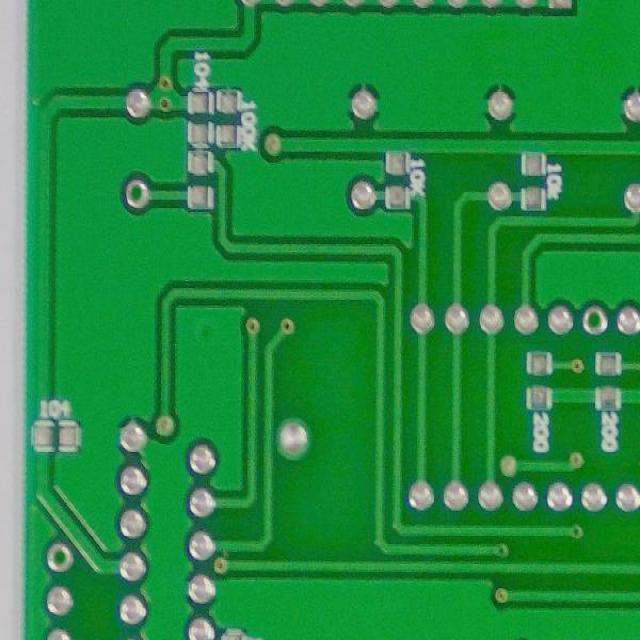missing hole: (116, 171, 159, 216), (40, 536, 79, 579), (577, 301, 611, 340)
